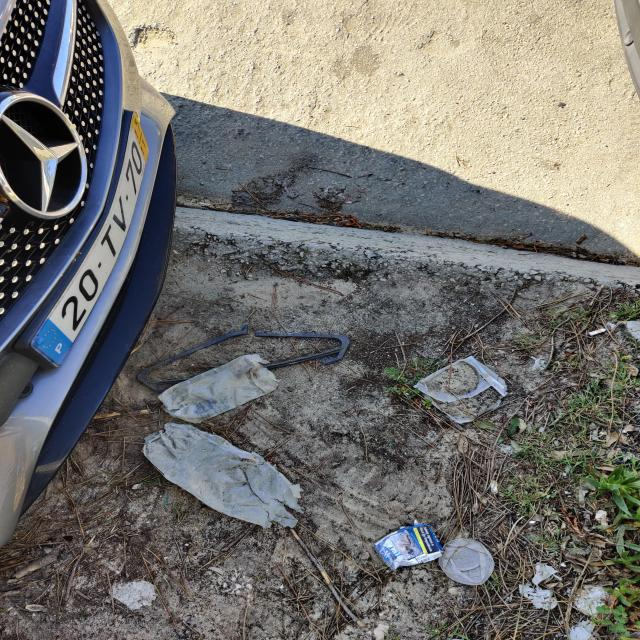litter: (101, 341, 351, 562), (385, 333, 553, 446), (357, 506, 462, 585)
